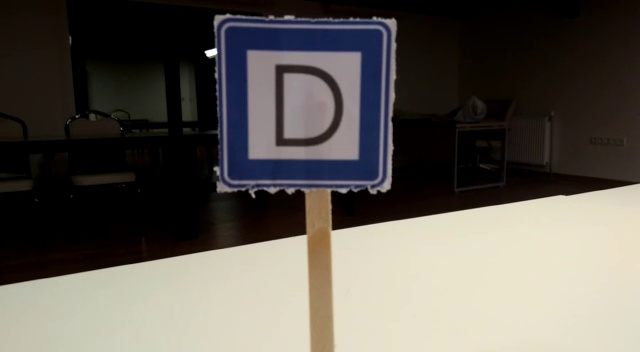durak: (220, 21, 389, 189)
